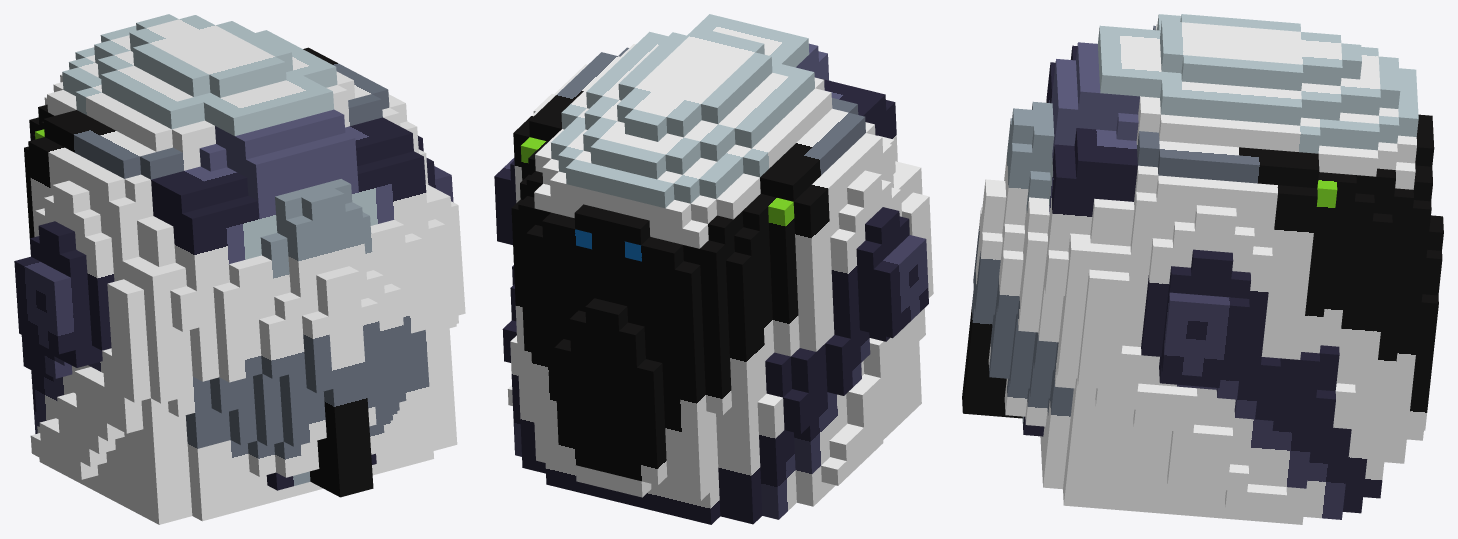
File: flight-helmet.gltf
3 renders of one model, left to right at view 1: azimuth 30°, elevation 25°; view 2: azimuth 150°, elevation 25°; view 3: azimuth 270°, elevation 25°, orthographic. The views are drawn at different scales.
Visible parts, largest first — view 1: Equip_Head-Local; view 2: Equip_Head-Local; view 3: Equip_Head-Local.
Part boxes in pixels (x1=…): Equip_Head-Local: x1=14, y1=14, x2=465, y2=524; Equip_Head-Local: x1=494, y1=14, x2=933, y2=524; Equip_Head-Local: x1=962, y1=14, x2=1443, y2=524.
Bounding box in the file's own units: 24.13 × 23.25 × 24.1.
1 material, 1 textured.
